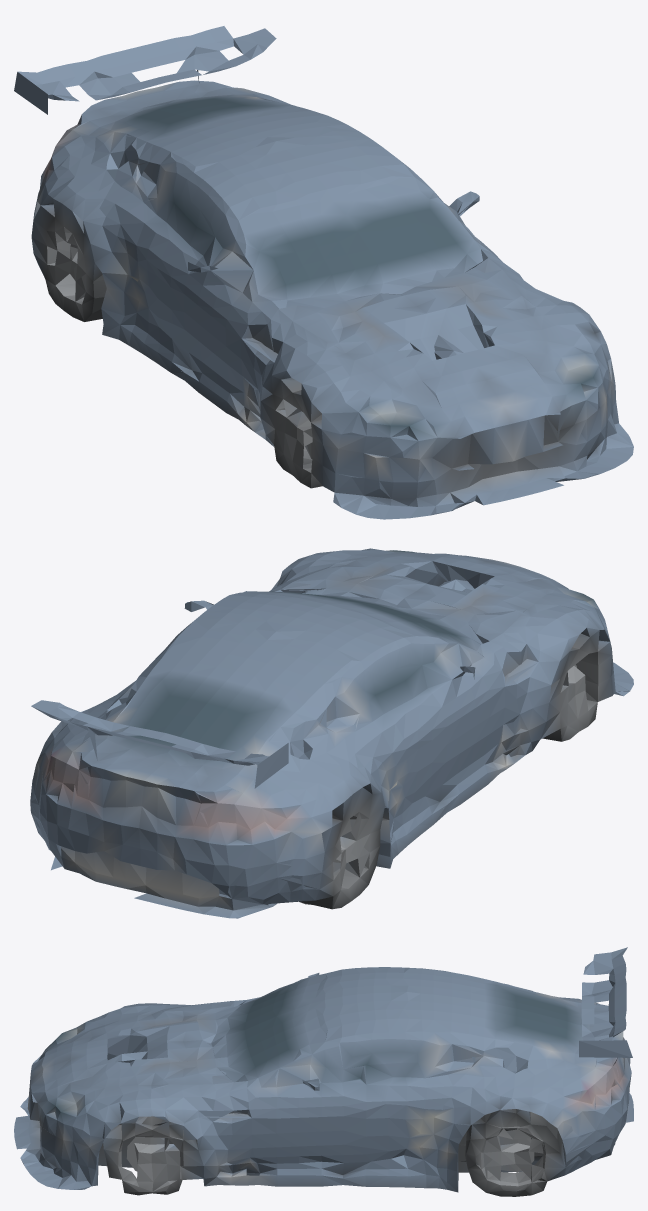
File: aston-lite.glb
3 views of the same model, one above another, from view 1: azimuth 30°, elevation 25°; view 2: azimuth 150°, elevation 25°; view 3: azimuth 270°, elevation 25° (orthographic). The views are drawn at different scales.
Parts seen in each view (by area): view 1: world; view 2: world; view 3: world.
Part boxes in pixels (x1=…): world: x1=14, y1=26, x2=633, y2=519; world: x1=30, y1=548, x2=633, y2=918; world: x1=14, y1=947, x2=633, y2=1196.
Size of the model in its own units: 1.91 by 1.18 by 4.39.
